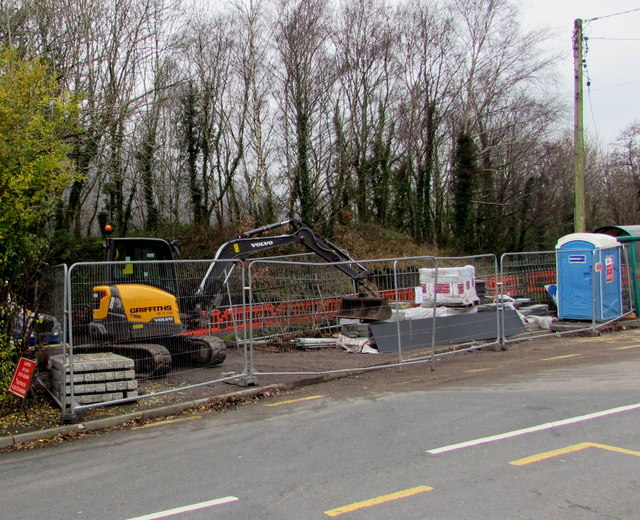excavator: (94, 228, 394, 380)
